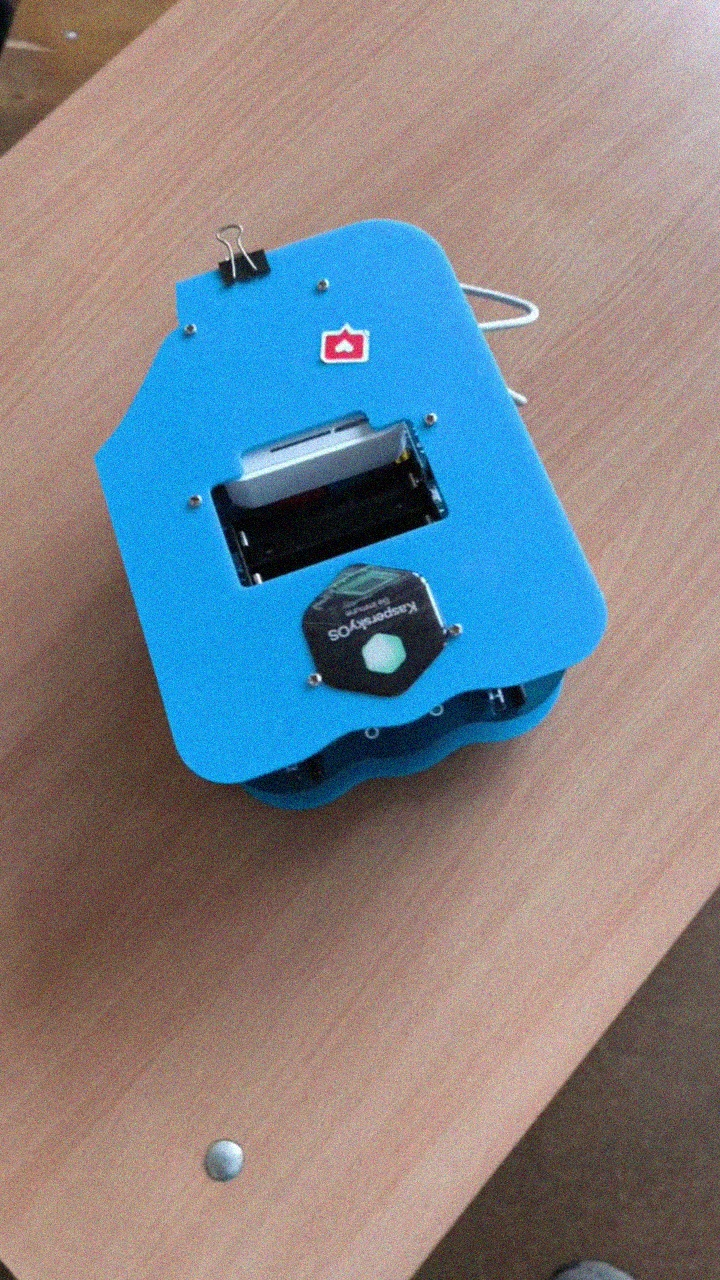robot: (92, 213, 614, 817)
